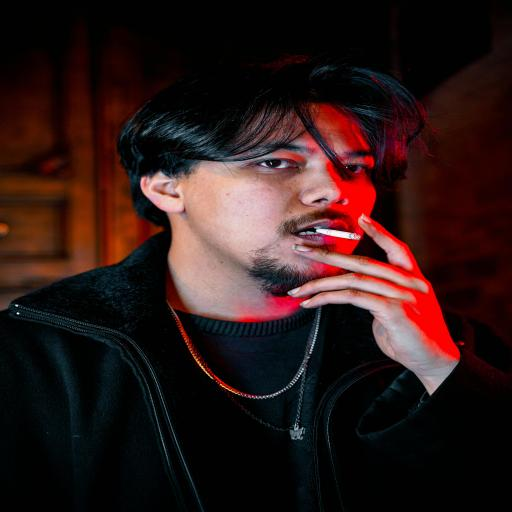terdeteksi merokok: (228, 127, 408, 297)
